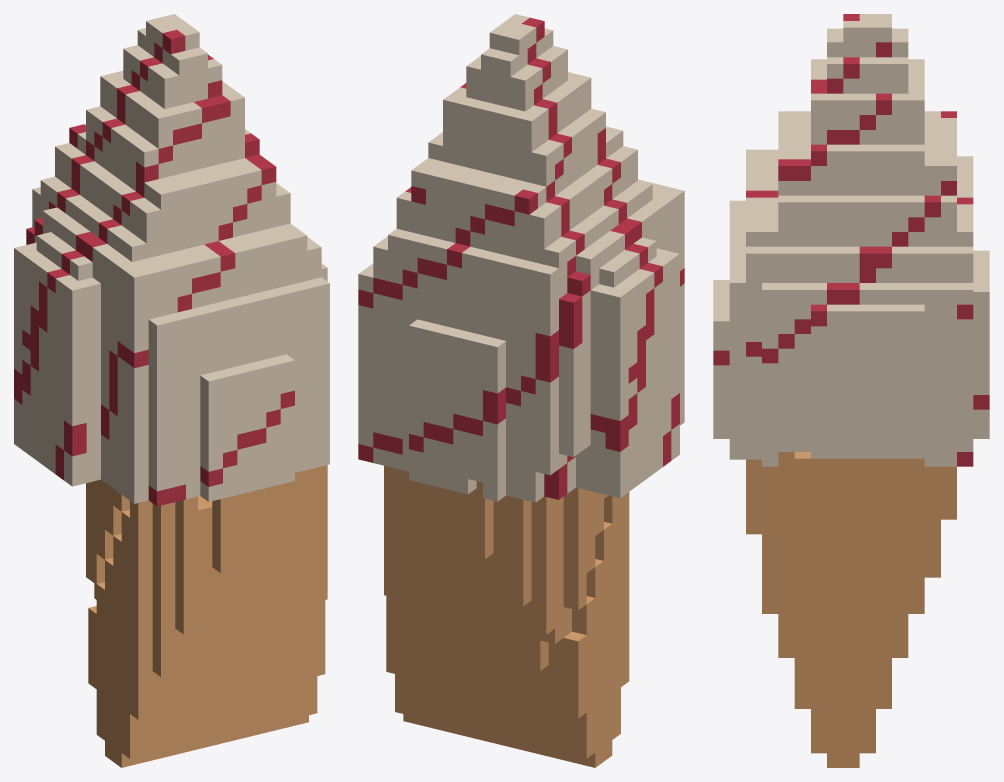
The model's file is Eruption-26.obj.
3 renders of one model, left to right at view 1: azimuth 30°, elevation 25°; view 2: azimuth 150°, elevation 25°; view 3: azimuth 270°, elevation 25°, orthographic. The views are drawn at different scales.
Size of the model in its own units: 1.7 by 4.7 by 1.7.
Materials: 1 (1 with a texture image).
